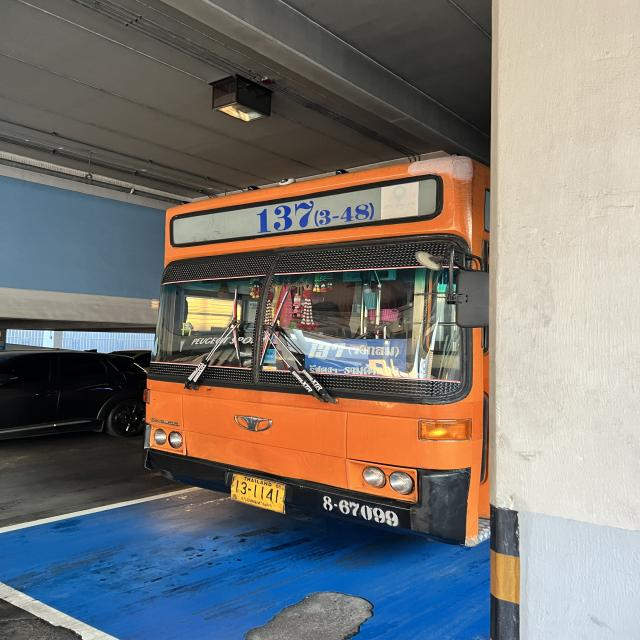BMTA-bus: (142, 155, 494, 548)
Bus-Line-Number: (253, 188, 381, 235)
Destination-Sign-Normal: (304, 339, 407, 377)
